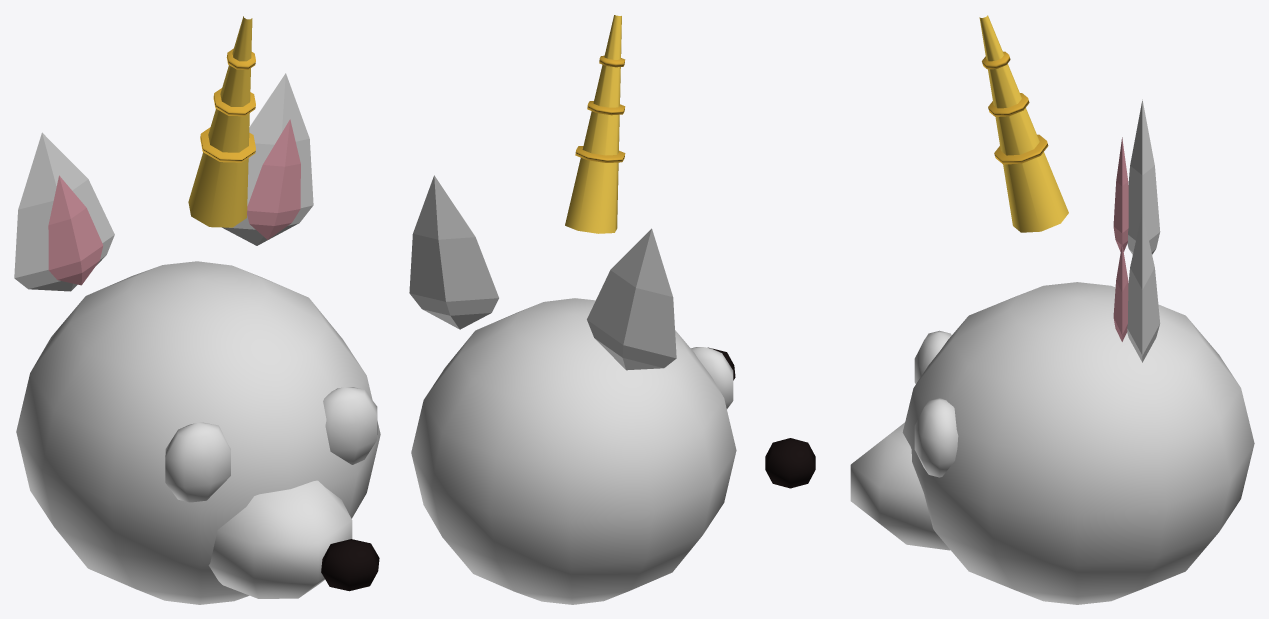
File: ville_cos_fam_licorne_tete.glb
3 renders of one model, left to right at view 1: azimuth 30°, elevation 25°; view 2: azimuth 150°, elevation 25°; view 3: azimuth 270°, elevation 25°, orthographic. The views are drawn at different scales.
Parts seen in each view (by area): view 1: cos_fam_licorne_tete; view 2: cos_fam_licorne_tete; view 3: cos_fam_licorne_tete.
Part boxes in pixels (x1=…): cos_fam_licorne_tete: x1=14, y1=16, x2=380, y2=604; cos_fam_licorne_tete: x1=409, y1=15, x2=736, y2=604; cos_fam_licorne_tete: x1=765, y1=15, x2=1254, y2=604.
Bounding box in the file's own units: 0.2352 × 0.4368 × 0.3377.
